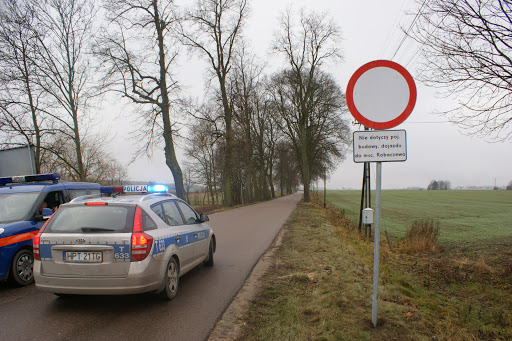no_entry_sign: (345, 59, 418, 130)
